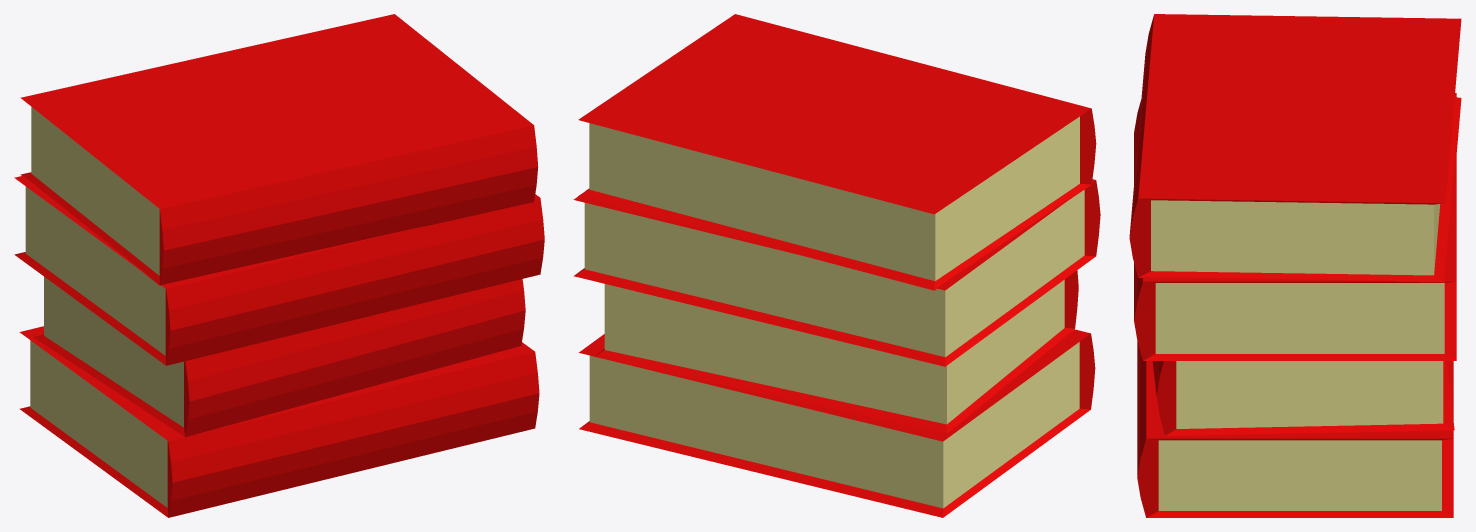
The model's file is bookstack.fbx.
3 views of the same model, side by side, from view 1: azimuth 30°, elevation 25°; view 2: azimuth 150°, elevation 25°; view 3: azimuth 270°, elevation 25° (orthographic). The views are drawn at different scales.
Visible parts, largest first — view 1: Cube.003, Cube, Cube.002, Cube.001; view 2: Cube.003, Cube, Cube.002, Cube.001; view 3: Cube.003, Cube, Cube.002, Cube.001.
Part boxes in pixels (box(x1,y1,x2,y2)): Cube.003: box(20, 14, 538, 285); Cube: box(19, 326, 539, 517); Cube.002: box(14, 175, 544, 365); Cube.001: box(34, 276, 525, 437); Cube.003: box(578, 14, 1096, 290); Cube: box(579, 329, 1095, 517); Cube.002: box(573, 179, 1100, 366); Cube.001: box(594, 270, 1078, 433); Cube.003: box(1129, 14, 1461, 282); Cube: box(1137, 341, 1453, 517); Cube.002: box(1134, 93, 1456, 360); Cube.001: box(1152, 361, 1454, 435).
Bounding box in the file's own units: 205 × 160 × 152.
